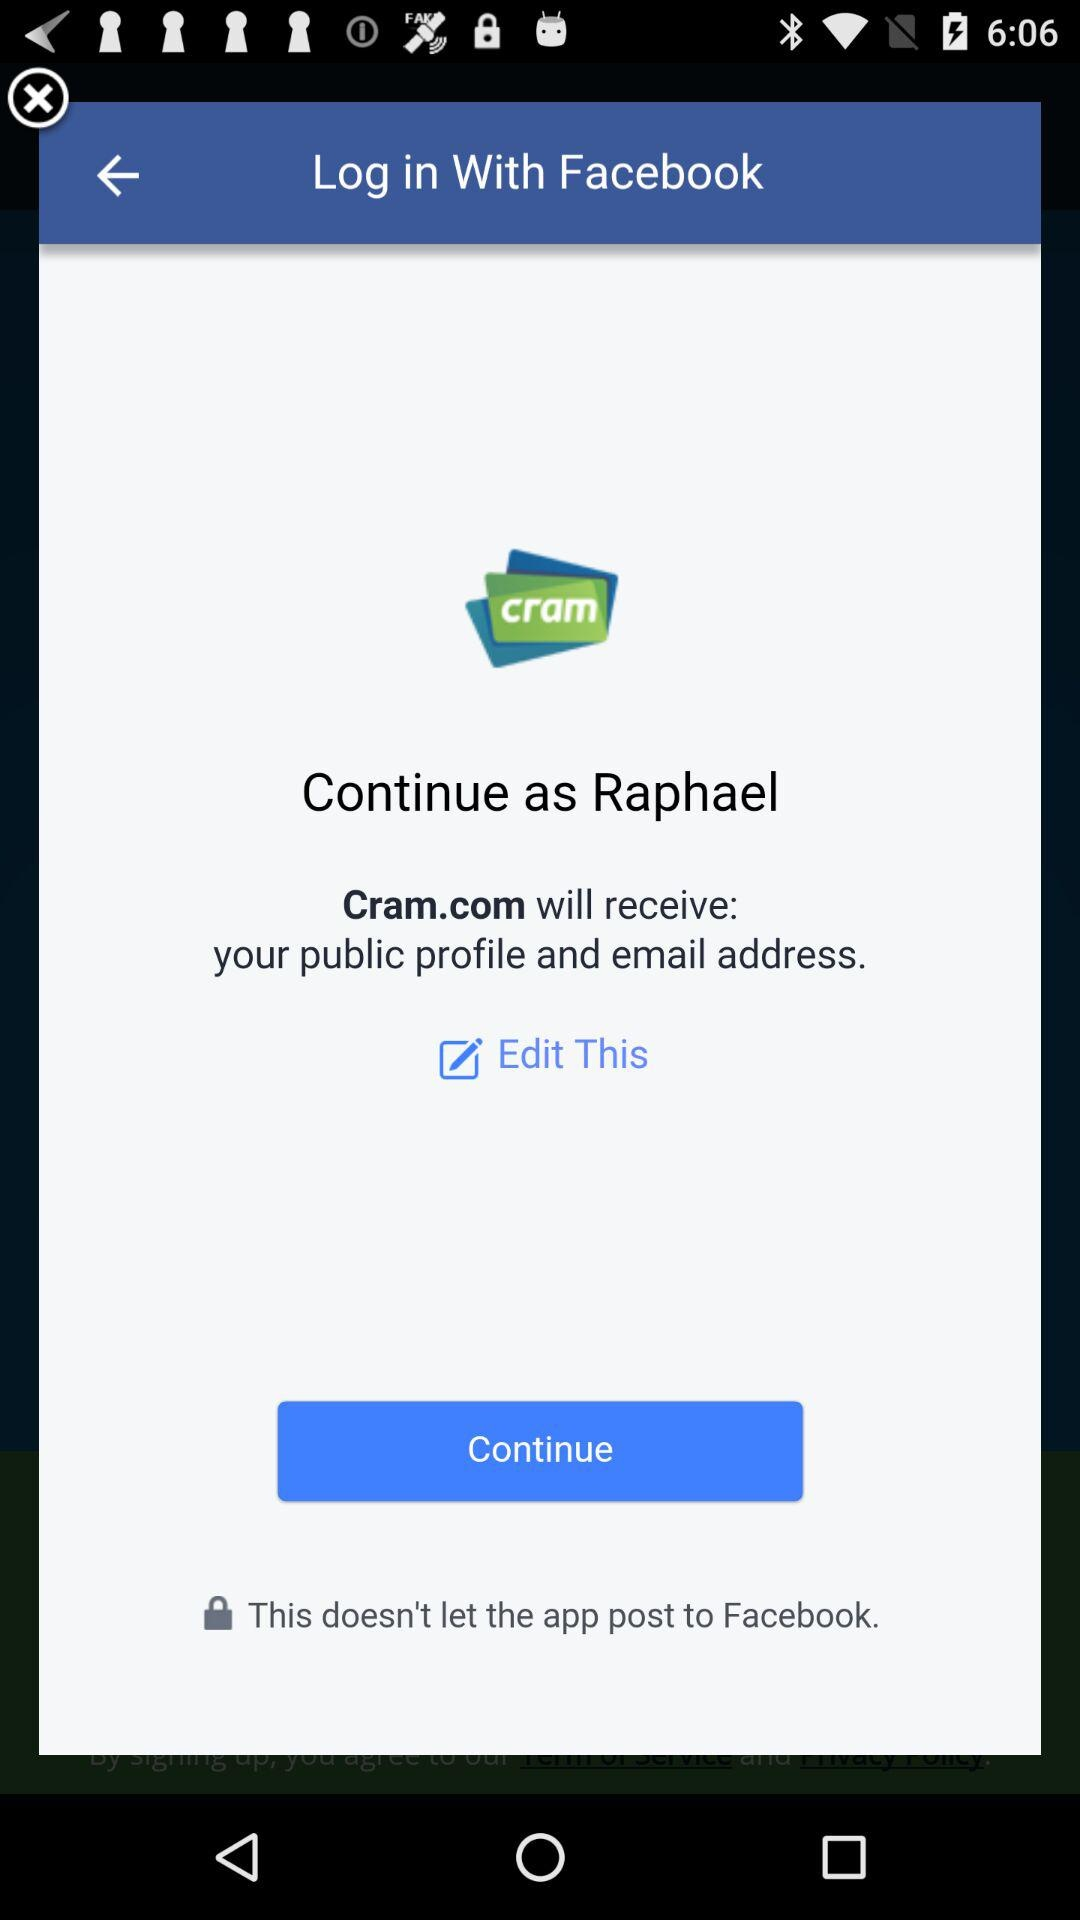ImageView: (5, 63, 76, 140)
